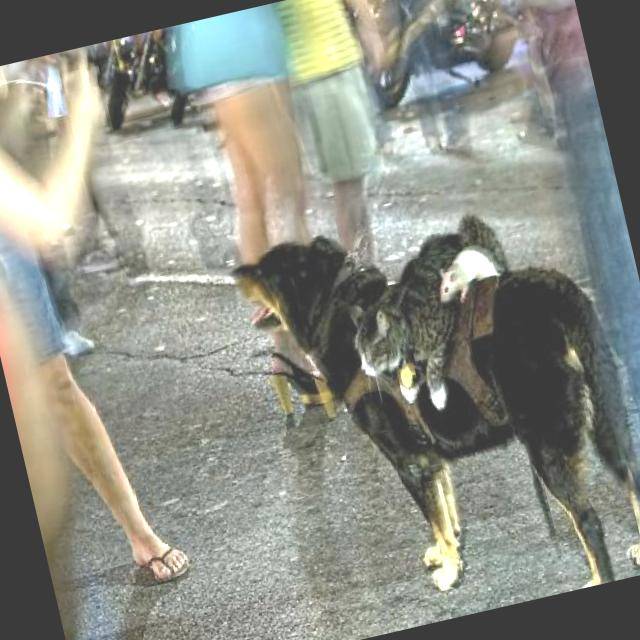Person: (0, 45, 210, 605), (161, 1, 370, 432), (496, 0, 640, 572), (265, 0, 427, 268), (0, 227, 85, 546), (381, 0, 502, 167), (36, 255, 98, 364)
